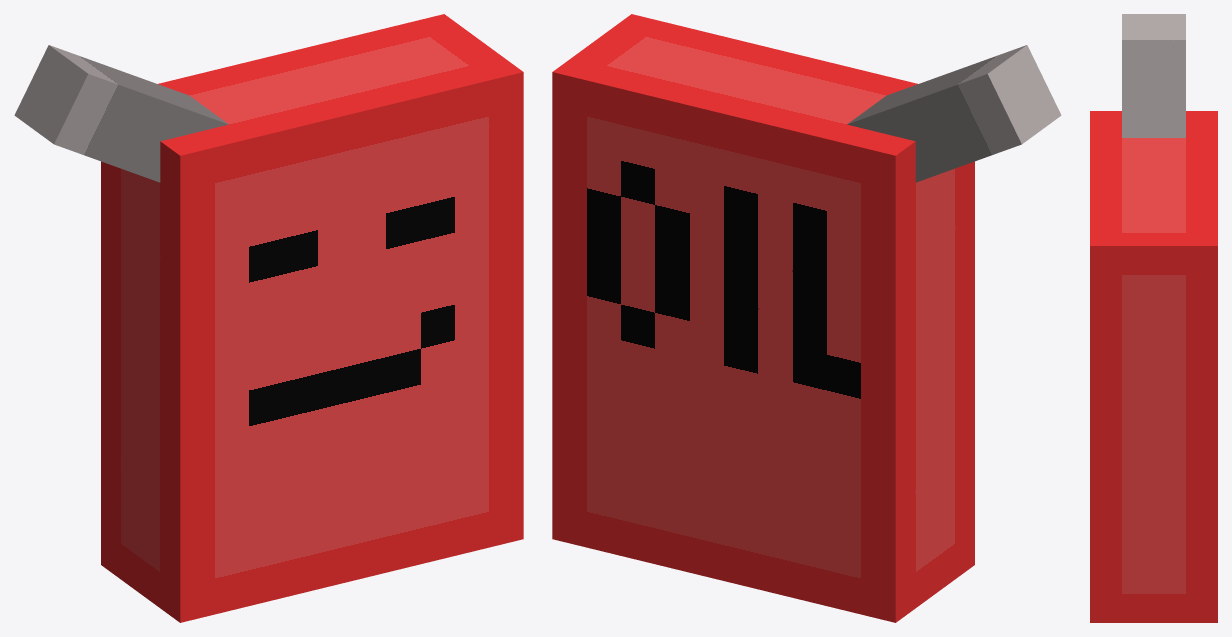
File: motor_oil.gltf
3 renders of one model, left to right at view 1: azimuth 30°, elevation 25°; view 2: azimuth 150°, elevation 25°; view 3: azimuth 270°, elevation 25°, orthographic. The views are drawn at different scales.
Visible parts, largest first — view 1: cube (×2); view 2: cube (×2); view 3: cube (×2).
Boxes of the visible parts, left/top/right/bottom form: cube (×2): left=14, top=14, right=523, bottom=622; cube (×2): left=552, top=14, right=1061, bottom=622; cube (×2): left=1090, top=14, right=1217, bottom=622.
Size of the model in its own units: 0.8186 by 0.9604 by 0.25.
Materials: 2 (2 with a texture image).
